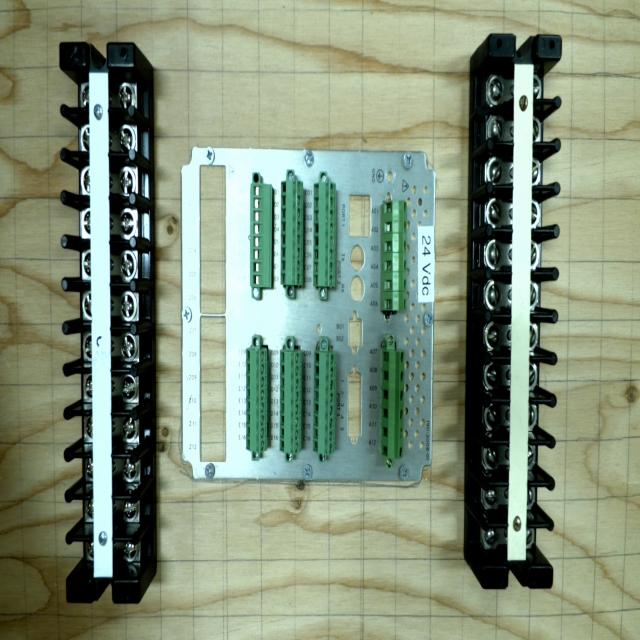Flathead_Block: (483, 36, 561, 589)
Phillips_Block: (60, 42, 140, 604)
Terminal_1: (383, 200, 407, 310), (381, 350, 404, 459)
Terminal_2: (313, 182, 336, 287), (280, 180, 303, 285), (313, 352, 336, 455), (279, 351, 301, 455), (246, 349, 267, 453)
